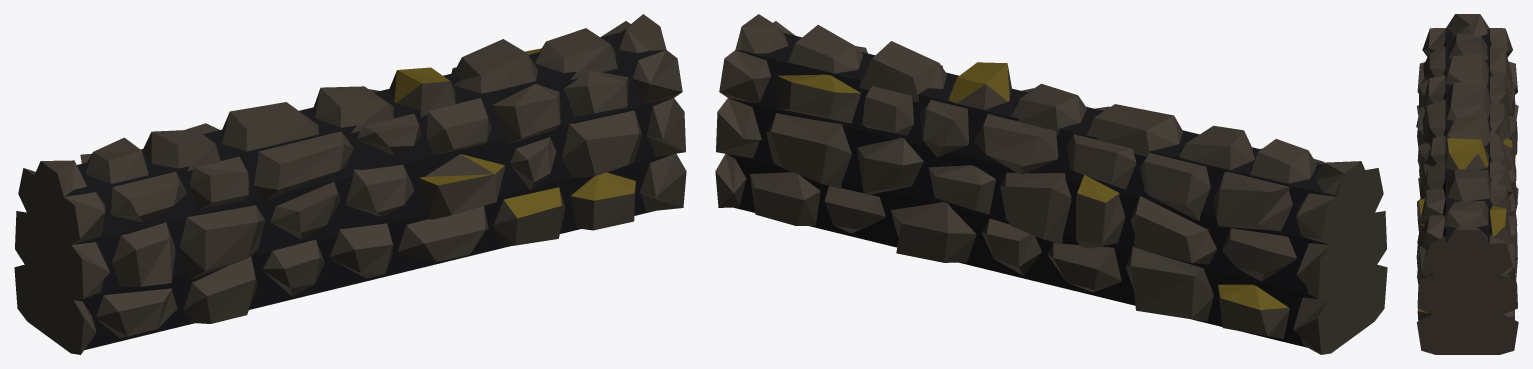
File: basalt-field-wall-run-d0917e.glb
3 views of the same model, side by side, from view 1: azimuth 30°, elevation 25°; view 2: azimuth 150°, elevation 25°; view 3: azimuth 270°, elevation 25° (orthographic). The views are drawn at different scales.
Parts seen in each view (by area): view 1: wall; view 2: wall; view 3: wall.
Boxes of the visible parts, box(x1,y1,x2,y2) form: wall: box(14, 14, 686, 354); wall: box(715, 14, 1387, 354); wall: box(1416, 14, 1518, 354).
Bounding box in the file's own units: 4 × 1.12 × 0.8031.
